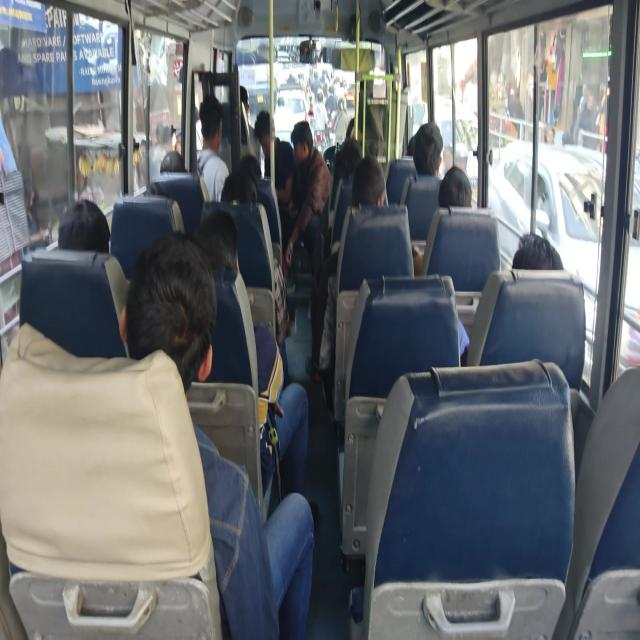person: (119, 231, 315, 638), (195, 208, 309, 500), (310, 156, 388, 408), (420, 165, 473, 361), (284, 120, 332, 276), (253, 109, 294, 205), (196, 94, 229, 202), (58, 198, 110, 254), (512, 232, 563, 270), (410, 121, 443, 177), (438, 165, 472, 208), (312, 88, 330, 146), (332, 95, 348, 144), (159, 150, 188, 173)
